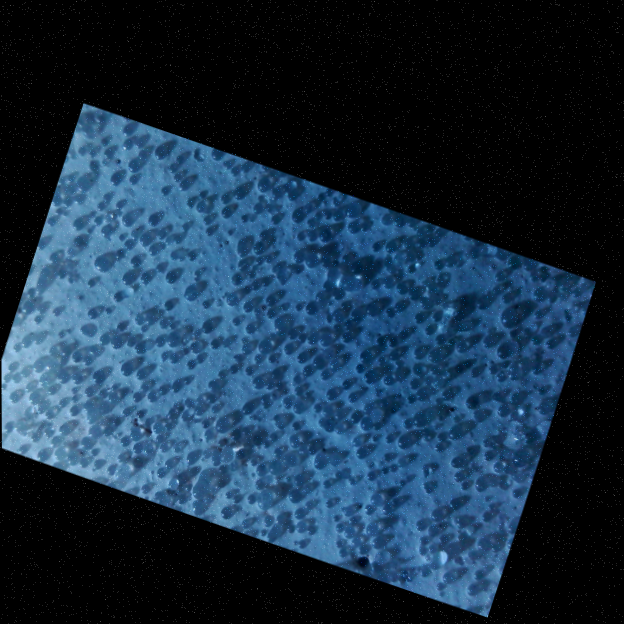GrassBeadSeg: (6, 152, 543, 402), (98, 137, 426, 545), (123, 204, 454, 575), (135, 151, 471, 489), (121, 125, 508, 415), (86, 200, 426, 530), (34, 232, 467, 484), (35, 314, 427, 583), (108, 173, 462, 468), (218, 187, 483, 580), (173, 156, 439, 537), (65, 248, 525, 468), (307, 232, 576, 601), (20, 240, 341, 542), (57, 270, 509, 475), (13, 271, 361, 532), (230, 177, 492, 523), (230, 230, 490, 550), (154, 241, 468, 491), (156, 150, 348, 557), (40, 339, 438, 529), (113, 114, 361, 418), (116, 160, 315, 536), (188, 209, 492, 454), (171, 173, 446, 441), (132, 222, 375, 514), (218, 207, 443, 520), (161, 151, 412, 428), (172, 203, 442, 452), (111, 293, 465, 482), (76, 147, 267, 497), (235, 244, 448, 544), (156, 186, 375, 476), (89, 257, 519, 397), (82, 243, 424, 417), (41, 219, 313, 437), (225, 255, 428, 544), (145, 242, 438, 433), (161, 304, 463, 489), (126, 175, 304, 487), (69, 219, 469, 352), (47, 217, 268, 439), (46, 194, 244, 431), (208, 393, 443, 589), (165, 222, 369, 446), (202, 297, 420, 505), (229, 274, 463, 467), (186, 181, 314, 533), (264, 295, 488, 491), (132, 138, 247, 499), (292, 351, 510, 530), (291, 220, 541, 374), (30, 165, 233, 344), (71, 236, 340, 371), (167, 164, 312, 413), (124, 139, 243, 441), (47, 215, 391, 315), (256, 339, 443, 522), (128, 164, 342, 321), (56, 178, 182, 443), (38, 393, 415, 479), (25, 288, 293, 408), (183, 223, 348, 407), (227, 349, 493, 463), (100, 161, 271, 336), (286, 340, 467, 504), (307, 205, 478, 376), (314, 193, 494, 348), (344, 262, 547, 395), (124, 234, 353, 347), (275, 301, 444, 450), (119, 152, 220, 401), (164, 199, 289, 400), (241, 217, 404, 369), (115, 140, 239, 331), (324, 281, 519, 402), (342, 309, 444, 537), (50, 301, 253, 414), (179, 310, 516, 376), (22, 302, 167, 451), (120, 215, 520, 269), (26, 317, 264, 404), (45, 385, 204, 514), (123, 240, 331, 338), (264, 517, 486, 608), (215, 193, 323, 379), (235, 445, 477, 527), (186, 251, 294, 433), (33, 260, 343, 323), (254, 232, 331, 476), (252, 382, 411, 495), (258, 247, 396, 376), (382, 308, 494, 461), (90, 369, 301, 448), (10, 345, 274, 407), (85, 279, 165, 478), (30, 230, 166, 347), (31, 217, 146, 354), (297, 347, 441, 453), (152, 147, 205, 416), (290, 421, 487, 491), (233, 429, 343, 548), (108, 465, 274, 541), (246, 301, 404, 378), (18, 337, 128, 445), (432, 349, 479, 596), (201, 216, 344, 297), (476, 311, 516, 588), (209, 147, 327, 240), (239, 426, 524, 464), (83, 120, 200, 211), (365, 310, 556, 364), (176, 180, 253, 312), (115, 297, 221, 391), (296, 349, 372, 476), (140, 444, 251, 527), (405, 288, 507, 378), (239, 233, 270, 528), (198, 160, 279, 272), (114, 249, 163, 433), (133, 223, 193, 368), (479, 247, 575, 336), (256, 187, 281, 508), (81, 227, 133, 375), (368, 476, 464, 550), (322, 209, 405, 294), (411, 342, 493, 426), (139, 255, 218, 341), (270, 440, 342, 531), (200, 193, 245, 333), (353, 446, 460, 502), (475, 285, 539, 378), (347, 404, 401, 514), (68, 178, 123, 283), (79, 308, 147, 391), (383, 265, 452, 345), (55, 117, 100, 234), (155, 470, 345, 497), (180, 368, 477, 385), (464, 365, 530, 441), (192, 273, 260, 346), (482, 411, 543, 491), (129, 234, 151, 453), (133, 342, 308, 368), (388, 459, 429, 560), (267, 336, 320, 413), (54, 245, 165, 280), (57, 370, 141, 416), (439, 235, 502, 295), (252, 192, 295, 278), (418, 526, 501, 570), (97, 331, 354, 345), (323, 309, 362, 400), (468, 464, 519, 532), (369, 278, 430, 334), (345, 366, 399, 429), (362, 304, 444, 345), (360, 369, 380, 537), (308, 370, 348, 453), (130, 227, 212, 267), (188, 428, 255, 475), (257, 186, 339, 224), (69, 347, 116, 412), (436, 398, 556, 421), (406, 229, 441, 304), (169, 223, 211, 283), (158, 238, 197, 301), (349, 537, 401, 583), (490, 345, 508, 473), (202, 458, 253, 502), (34, 273, 70, 333), (138, 272, 166, 347), (51, 197, 111, 232), (513, 270, 544, 336), (100, 207, 158, 242), (4, 417, 57, 455), (81, 387, 215, 402), (349, 398, 394, 442), (2, 363, 28, 437), (247, 275, 286, 323), (166, 414, 209, 457), (132, 382, 171, 429), (246, 420, 268, 503), (87, 424, 123, 474), (422, 375, 478, 407), (420, 398, 440, 487), (39, 346, 76, 394), (415, 231, 461, 269), (12, 375, 50, 419), (353, 336, 398, 372), (168, 322, 218, 354), (58, 379, 93, 422), (91, 417, 118, 472), (185, 455, 219, 498), (392, 217, 421, 264), (44, 410, 69, 459), (259, 383, 287, 423), (175, 482, 218, 503), (274, 319, 305, 342), (493, 364, 534, 381), (67, 448, 99, 468), (317, 333, 330, 379), (334, 506, 356, 530), (269, 422, 283, 456), (167, 473, 188, 490), (434, 572, 455, 587), (248, 411, 269, 422), (164, 331, 178, 346)
